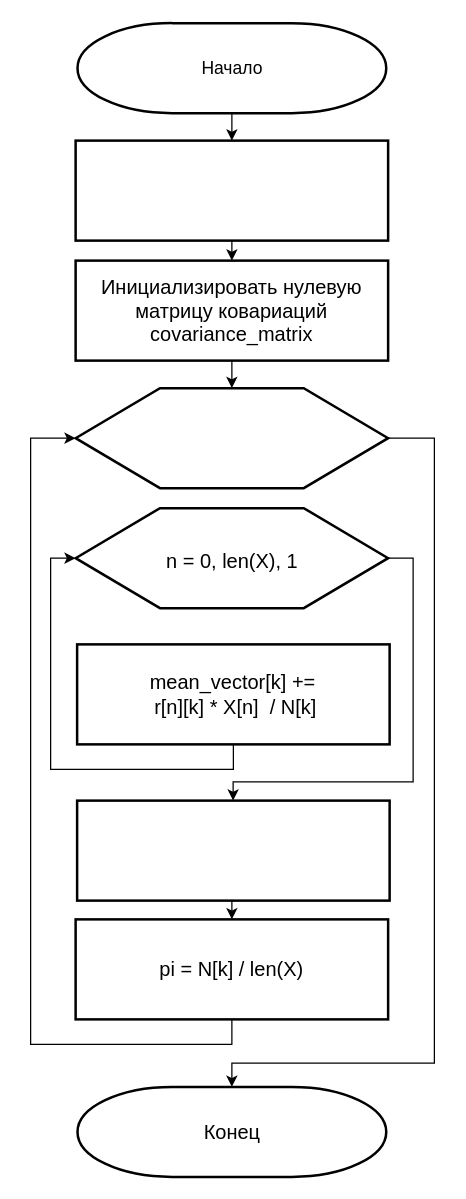
Image size: 466x1199. Some labels were removed from this diagram. Each missing label, with the centre of its shape:
"covariance_matrix[k] = cov(X.T, r[:][k]) / N[k]" goes at pixel 232 850.
"k = 0, n_components, 1" goes at pixel 231 437.
"Инициализировать нулевой вектор средних mean_vector" goes at pixel 231 190.
